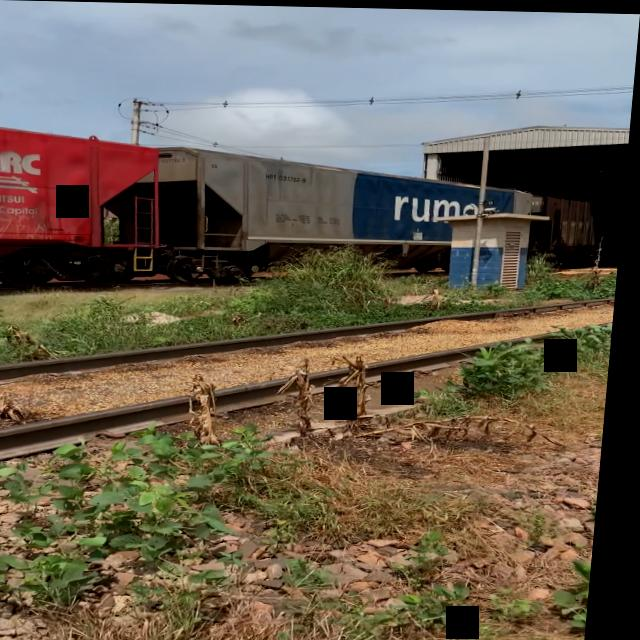hopper: (150, 149, 540, 287), (0, 123, 162, 289)
